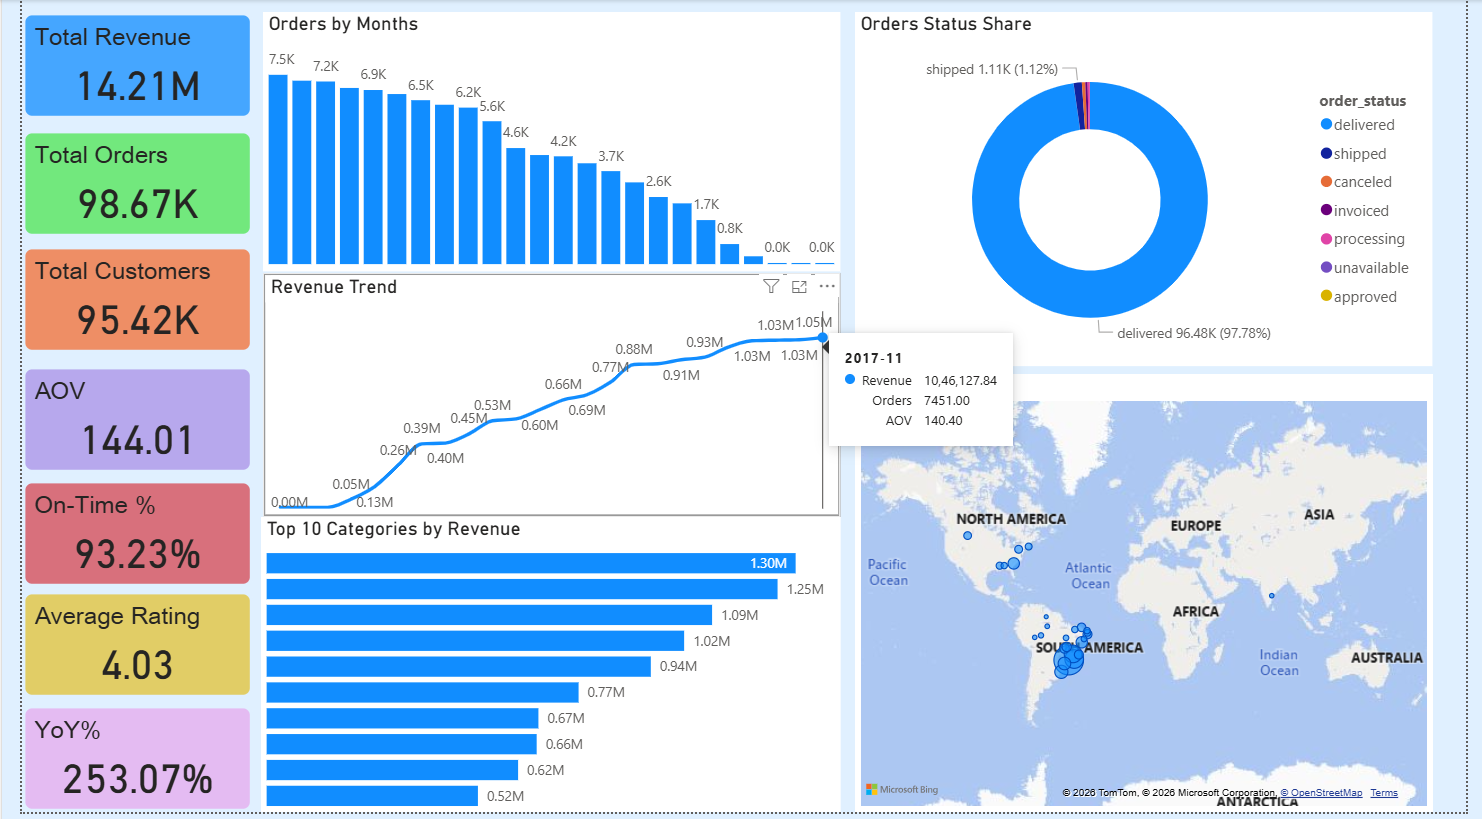

What the dashboard file says about the page in this screenshot:
{"tool":"powerbi","page":{"name":"Overview (Executive Dashboard)","canvas":[1280,720],"ordinal":0},"visuals":[{"type":"card","title":"Total Revenue","fields":{"Values":["public bi_fact_sales.Revenue"]},"box":[0,10.6,205,95],"z":0},{"type":"card","title":"Total Orders","fields":{"Values":["public bi_fact_sales.Orders"]},"box":[0,115.3,205,95],"z":1000},{"type":"card","title":"Total Customers","fields":{"Values":["public bi_fact_sales.Customers"]},"box":[0,218.1,205,95],"z":2000},{"type":"card","title":"AOV","fields":{"Values":["public bi_fact_sales.AOV"]},"box":[0,324.5,205,95],"z":3000},{"type":"card","title":"On-Time %","fields":{"Values":["public bi_fact_sales.On-time %"]},"box":[0,425.6,205,95],"z":4000},{"type":"card","title":"Average Rating","fields":{"Values":["public bi_fact_sales.Avg Rating"]},"box":[0,524,205,95],"z":5000},{"type":"card","title":"YoY%","fields":{"Values":["public bi_fact_sales.YoY %"]},"box":[0,625.1,205,95],"z":6000},{"type":"lineChart","title":"Revenue Trend","fields":{"Category":["DimDate.Year-Month"],"Y":["public bi_fact_sales.Revenue"]},"box":[214,242.2,511.6,215.9],"z":7000},{"type":"clusteredColumnChart","title":"Orders by Months","fields":{"Category":["DimDate.Year-Month"],"Y":["public bi_fact_sales.Orders"]},"box":[214,10.7,511.6,229.5],"z":8000},{"type":"barChart","title":"Top 10 Categories by Revenue","fields":{"Category":["public bi_fact_sales.category"],"Y":["public bi_fact_sales.Revenue"]},"box":[212,458.1,513.6,261.6],"z":9000},{"type":"map","title":"Revenue By State","fields":{"Category":["public bi_fact_sales.customer_state"],"Size":["public bi_fact_sales.Revenue"]},"box":[738.6,331.6,511.6,388.4],"z":10000},{"type":"donutChart","title":"Orders Status Share","fields":{"Category":["public bi_fact_sales.order_status"],"Y":["public bi_fact_sales.Orders"]},"box":[738.2,10.7,511.6,314.2],"z":11000}]}

Visuals, with their boxes in screenshot pixels (x1, y1, x2, y2), scaled from the page's 1280x720 canvas onto the 1482x819 screenshot:
"Total Revenue" card: (left=0, top=12, right=237, bottom=120)
"Total Orders" card: (left=0, top=131, right=237, bottom=239)
"Total Customers" card: (left=0, top=248, right=237, bottom=356)
"AOV" card: (left=0, top=369, right=237, bottom=477)
"On-Time %" card: (left=0, top=484, right=237, bottom=592)
"Average Rating" card: (left=0, top=596, right=237, bottom=704)
"YoY%" card: (left=0, top=711, right=237, bottom=818)
"Revenue Trend" lineChart: (left=248, top=276, right=840, bottom=521)
"Orders by Months" clusteredColumnChart: (left=248, top=12, right=840, bottom=273)
"Top 10 Categories by Revenue" barChart: (left=245, top=521, right=840, bottom=818)
"Revenue By State" map: (left=855, top=377, right=1447, bottom=818)
"Orders Status Share" donutChart: (left=855, top=12, right=1447, bottom=370)
